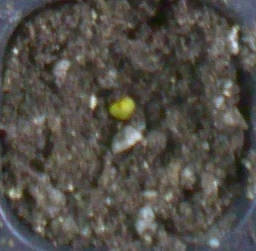pepper seed: (39, 34, 175, 155)
